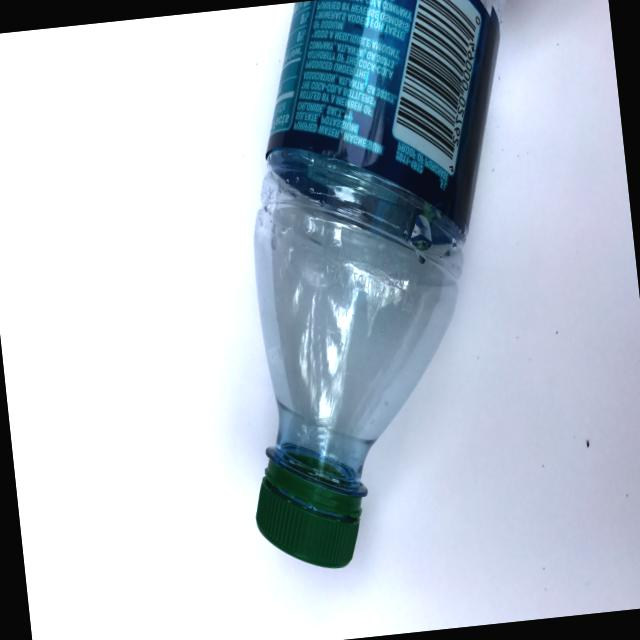Plastic: (188, 0, 578, 595)
